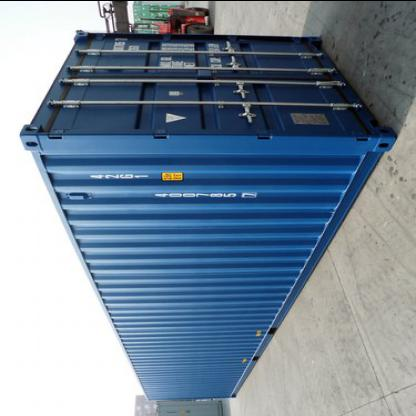Damage: (44, 104, 60, 130), (75, 34, 101, 46)
